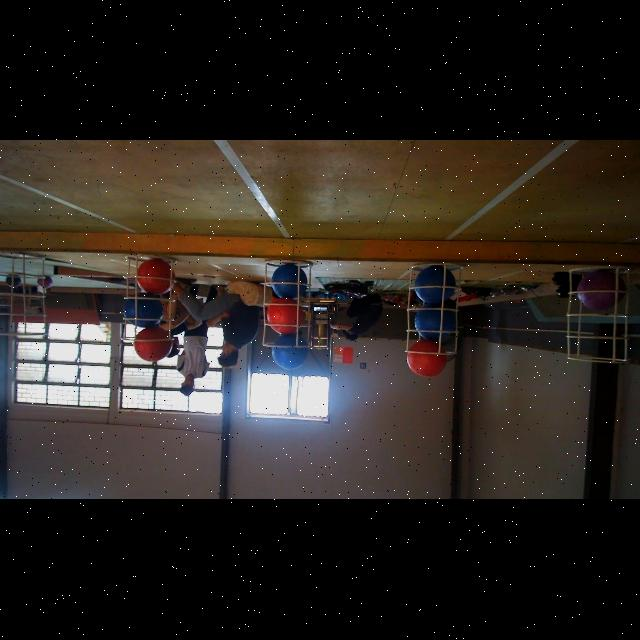B: (414, 266, 456, 304), (414, 304, 456, 341), (272, 264, 308, 300), (124, 294, 162, 328), (272, 336, 308, 370)
R: (407, 341, 447, 377), (268, 298, 304, 336), (137, 259, 175, 295), (134, 328, 172, 364)
